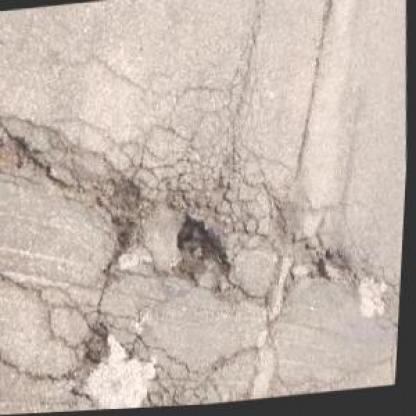pothole: (168, 210, 237, 278), (107, 176, 152, 251), (0, 129, 46, 180), (306, 248, 358, 290), (76, 324, 116, 370)
